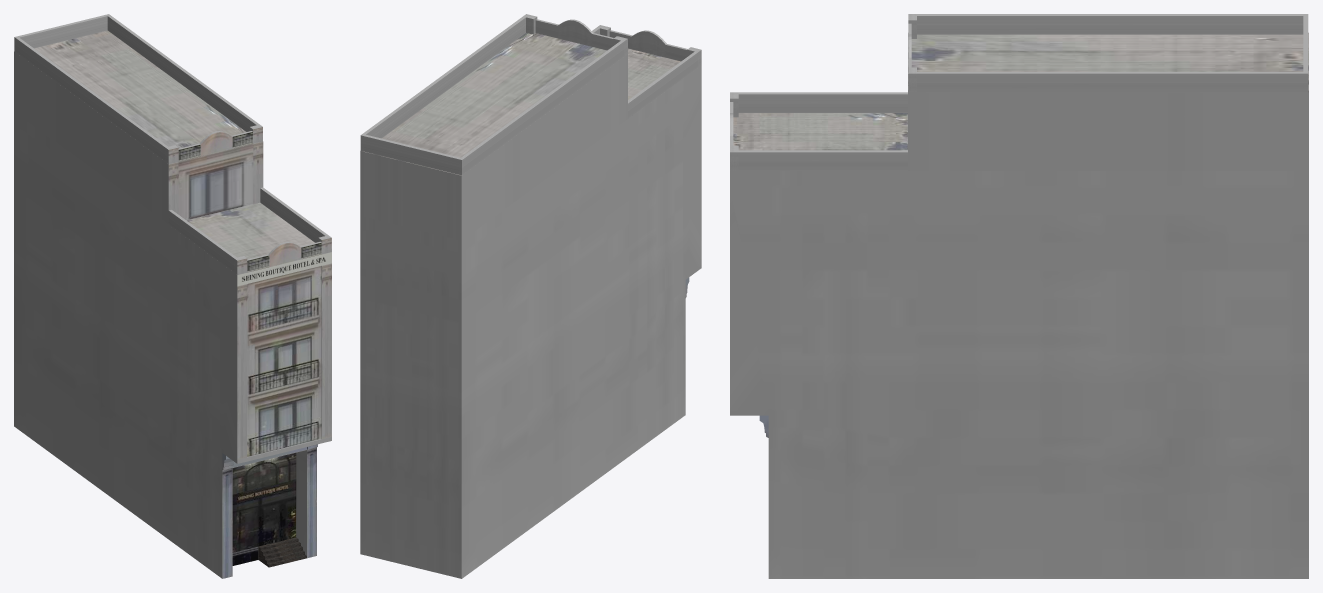
3 views of the same model, side by side, from view 1: azimuth 30°, elevation 25°; view 2: azimuth 150°, elevation 25°; view 3: azimuth 270°, elevation 25° (orthographic). The views are drawn at different scales.
Visible parts, largest first — view 1: 5fb4e7a872a5c52114cdc665; view 2: 5fb4e7a872a5c52114cdc665; view 3: 5fb4e7a872a5c52114cdc665.
Part boxes in pixels (x1,y1,x2,y2): 5fb4e7a872a5c52114cdc665: [14, 14, 331, 578]; 5fb4e7a872a5c52114cdc665: [360, 14, 701, 578]; 5fb4e7a872a5c52114cdc665: [730, 14, 1308, 578].
Bounding box in the file's own units: 5.5 × 21.99 × 22.5.
1 material, 1 textured.
